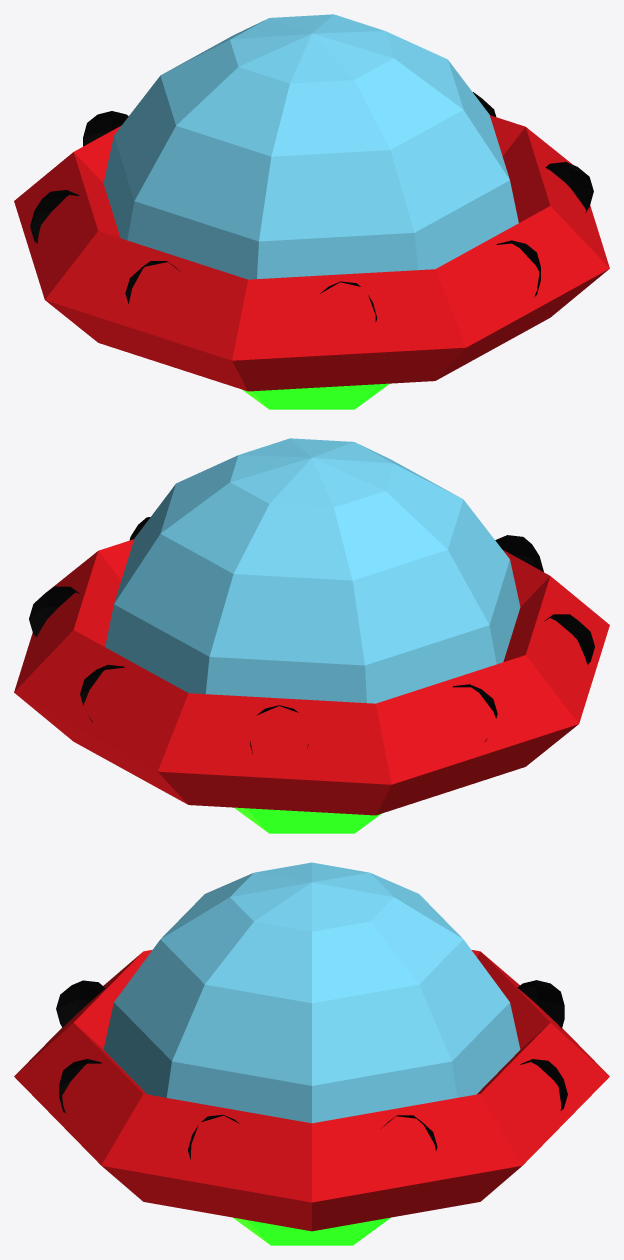
Rendered from ufo2light.glb.
3 views of the same model, one above another, from view 1: azimuth 30°, elevation 25°; view 2: azimuth 150°, elevation 25°; view 3: azimuth 270°, elevation 25° (orthographic). The views are drawn at different scales.
Parts seen in each view (by area): view 1: Sphere; view 2: Sphere; view 3: Sphere.
Boxes of the visible parts, x1,y1,x2,y2 form: Sphere: (14,14,609,409); Sphere: (14,438,609,833); Sphere: (14,862,609,1245).
Size of the model in its own units: 1.57 by 1.03 by 1.57.
